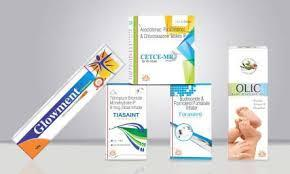Cardboard: (5, 5, 290, 166)
